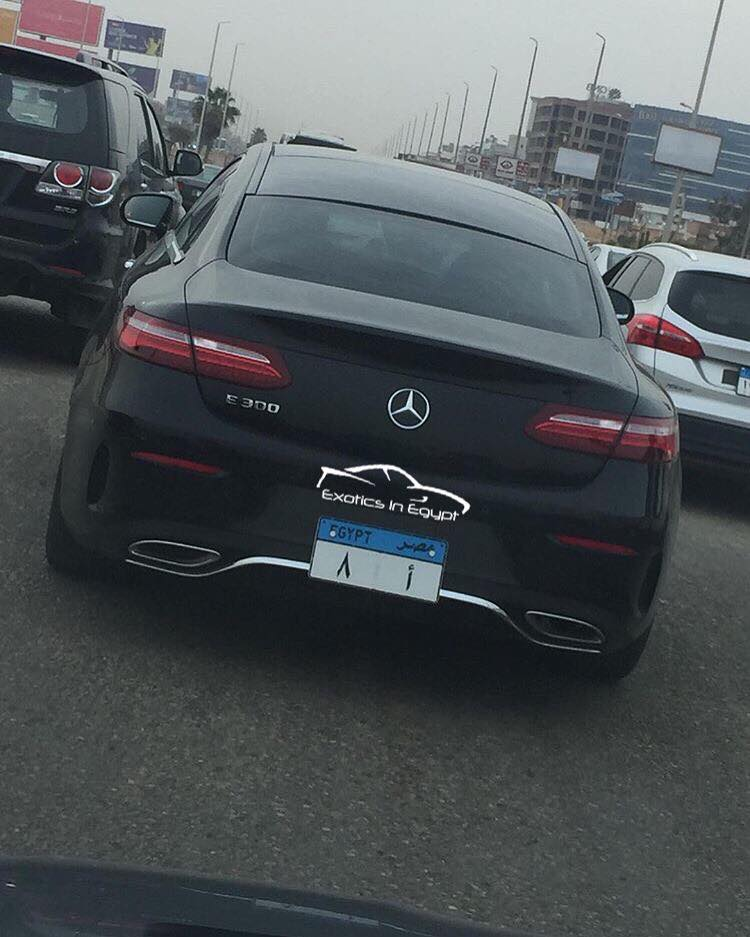carpl: (306, 529, 452, 599)
